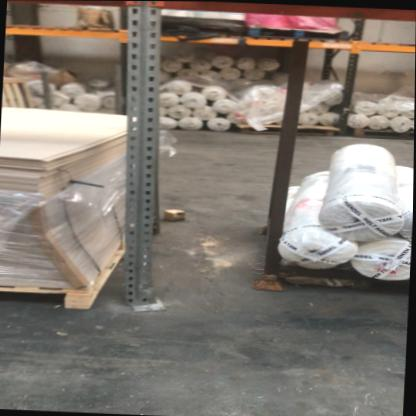vertical_damage: (124, 280, 174, 316), (172, 251, 173, 254)
